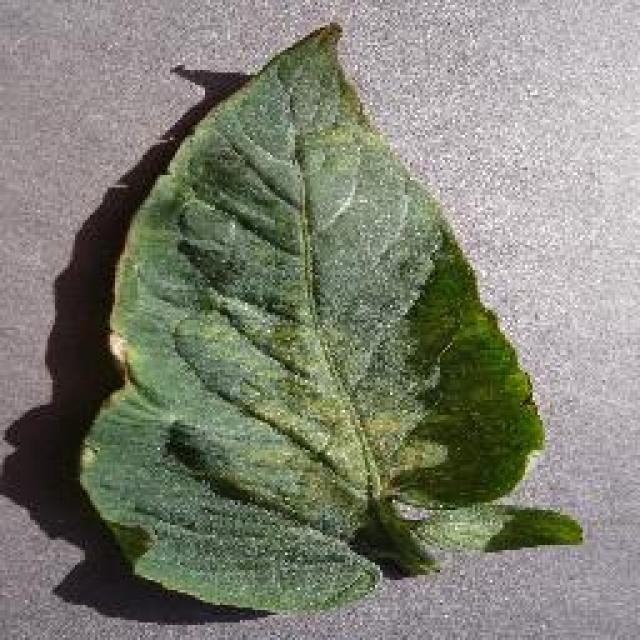Tomato___Spider_mites Two-spotted_spider_mite: (80, 25, 580, 608)
